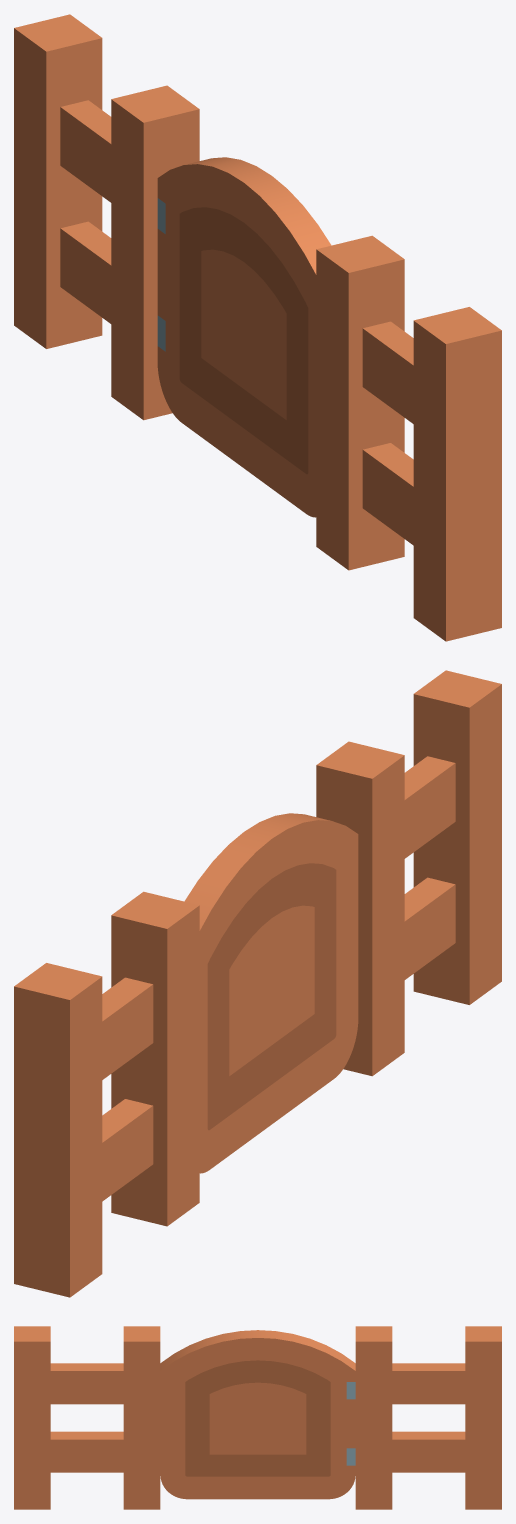
File: fenceGate.fbx
The picture shows the model from 3 angles, top to bottom: view 1: azimuth 30°, elevation 25°; view 2: azimuth 150°, elevation 25°; view 3: azimuth 270°, elevation 25°; orthographic projection. The views are drawn at different scales.
Parts seen in each view (by area): view 1: fenceGate, gate; view 2: fenceGate, gate; view 3: fenceGate, gate.
Boxes of the visible parts, x1,y1,x2,y2 form: fenceGate: [14, 14, 501, 641]; gate: [157, 157, 331, 517]; fenceGate: [14, 670, 501, 1297]; gate: [184, 813, 358, 1173]; fenceGate: [14, 1326, 501, 1509]; gate: [160, 1330, 355, 1499].
Size of the model in its own units: 0.75 by 3.8 by 10.
